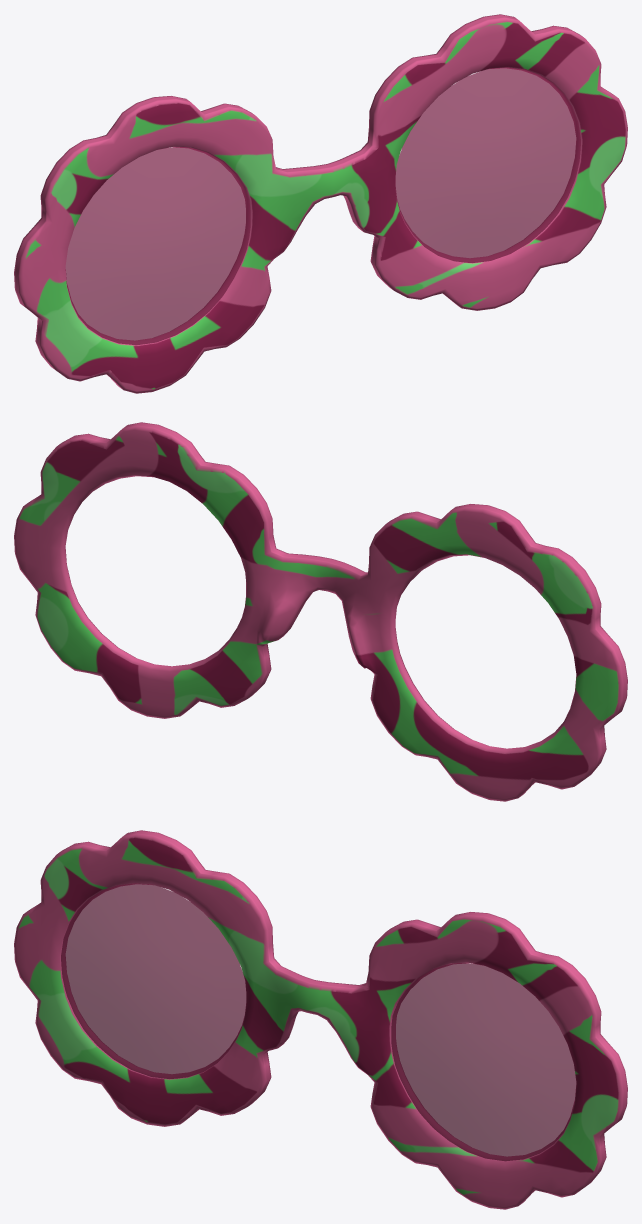
File: website_ar_glasses.gltf
3 views of the same model, one above another, from view 1: azimuth 30°, elevation 25°; view 2: azimuth 150°, elevation 25°; view 3: azimuth 330°, elevation 25° (orthographic).
Visible parts, largest first — view 1: default; view 2: default; view 3: default.
Part boxes in pixels (x1,y1,x2,y2): default: (14, 14, 627, 393); default: (14, 422, 627, 801); default: (14, 830, 627, 1209).
Bounding box in the file's own units: 0.1389 × 0.0631 × 0.00886.
1 material, 1 textured.
